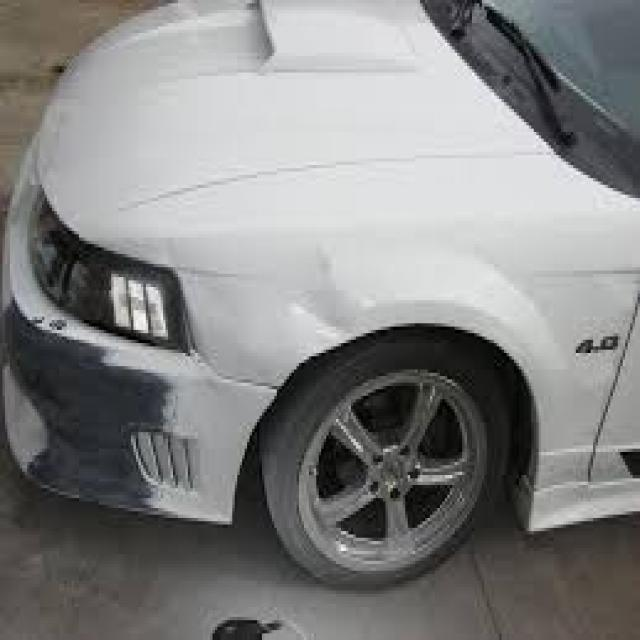minor: (0, 336, 188, 458)
